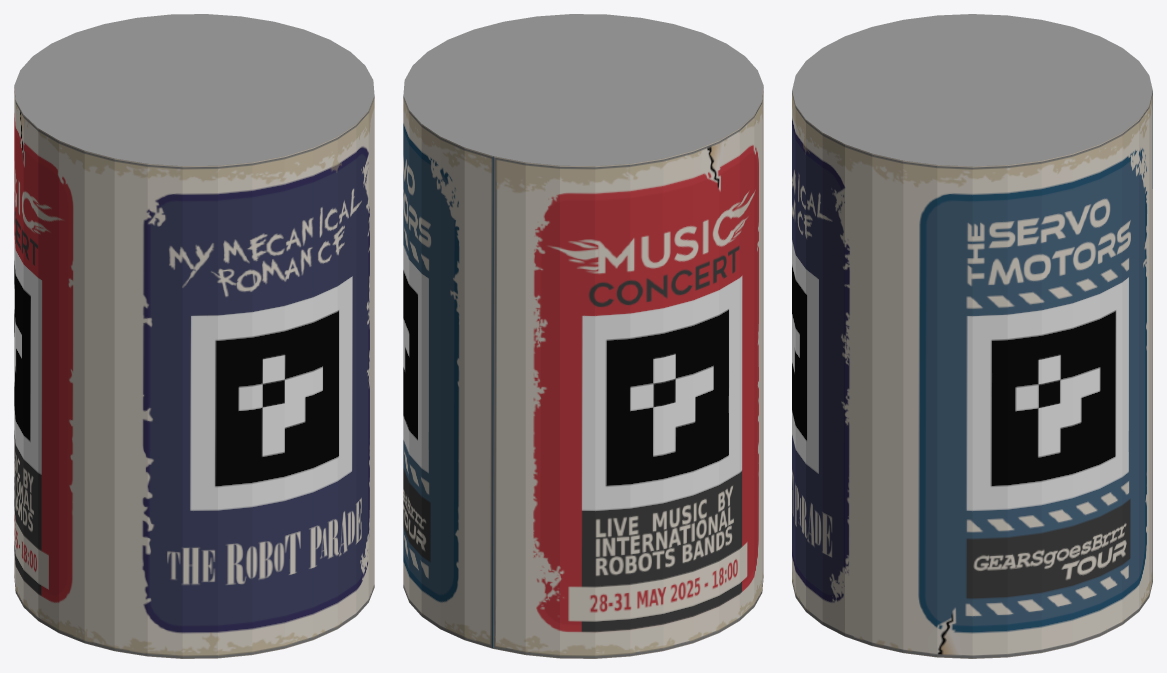
The model's file is eurobot_2025_cans_rbb.dae.
The picture shows the model from 3 angles, left to right: view 1: azimuth 30°, elevation 25°; view 2: azimuth 150°, elevation 25°; view 3: azimuth 270°, elevation 25°; orthographic projection.
Visible parts, largest first — view 1: Cylinder; view 2: Cylinder; view 3: Cylinder.
Part boxes in pixels (x1,y1,x2,y2): Cylinder: (14,14,374,658); Cylinder: (403,14,763,658); Cylinder: (792,14,1152,658).
Size of the model in its own units: 0.073 by 0.073 by 0.11.
2 materials, 1 textured.
